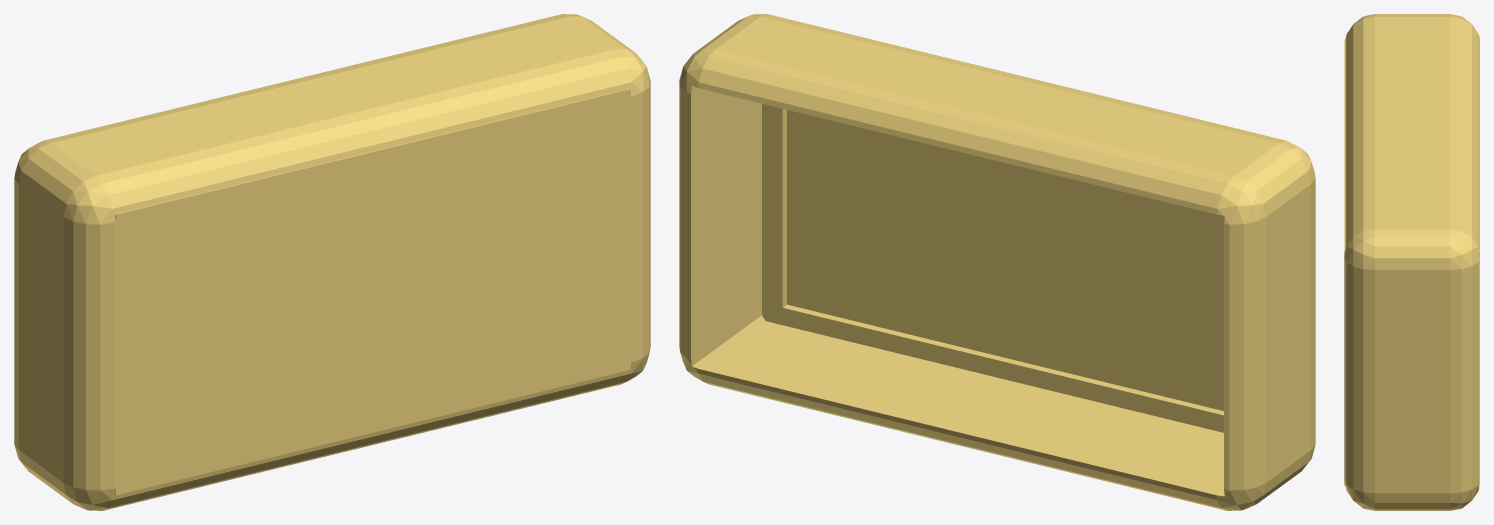
File: forehead_hud.glb
3 views of the same model, side by side, from view 1: azimuth 30°, elevation 25°; view 2: azimuth 150°, elevation 25°; view 3: azimuth 270°, elevation 25° (orthographic). The views are drawn at different scales.
Visible parts, largest first — view 1: forehead_hud; view 2: forehead_hud; view 3: forehead_hud.
Boxes of the visible parts, box(x1,y1,x2,y2) form: forehead_hud: box(14, 14, 650, 510); forehead_hud: box(679, 14, 1315, 510); forehead_hud: box(1344, 14, 1479, 510).
Size of the model in its own units: 0.033 by 0.018 by 0.00792.
